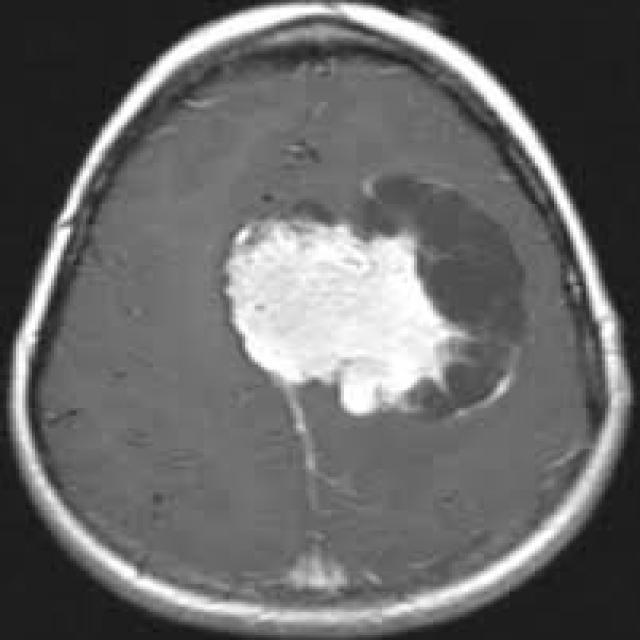Meningioma: (224, 174, 528, 418)
